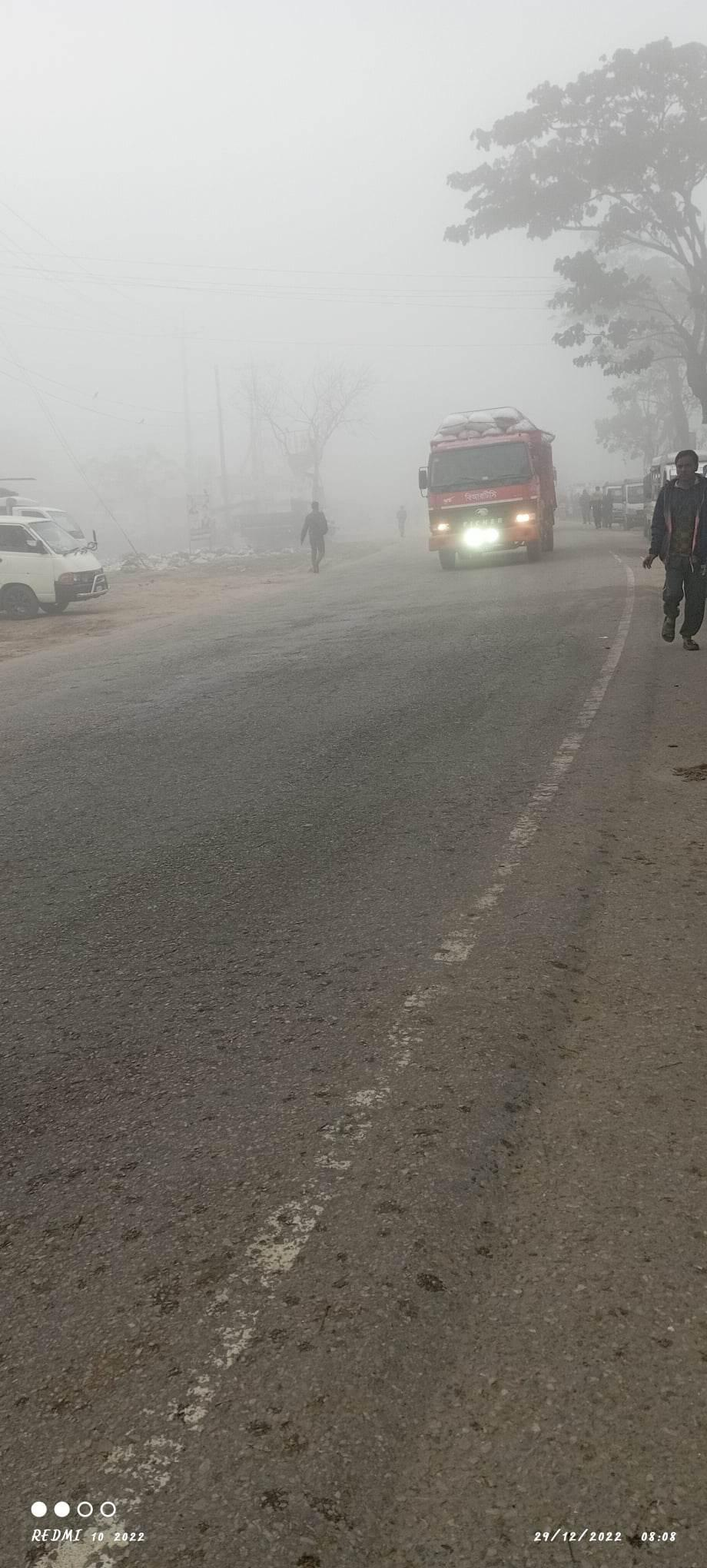Car: (3, 493, 129, 625)
Truck: (418, 387, 589, 581)
